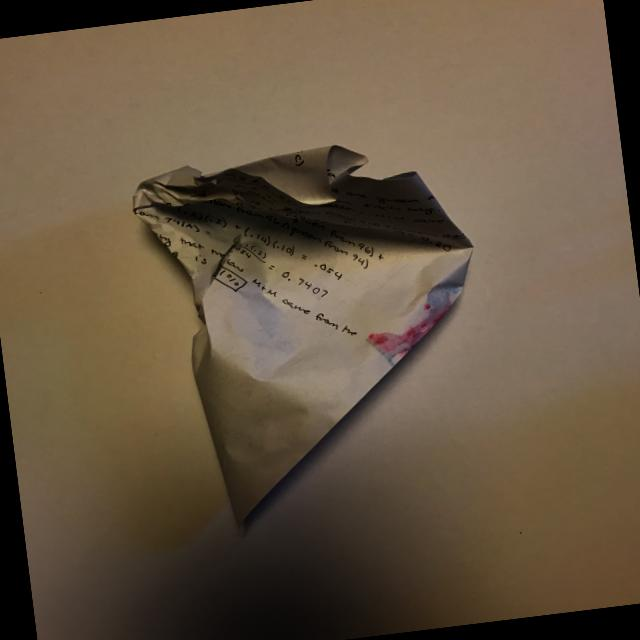Paper: (120, 109, 509, 558)
